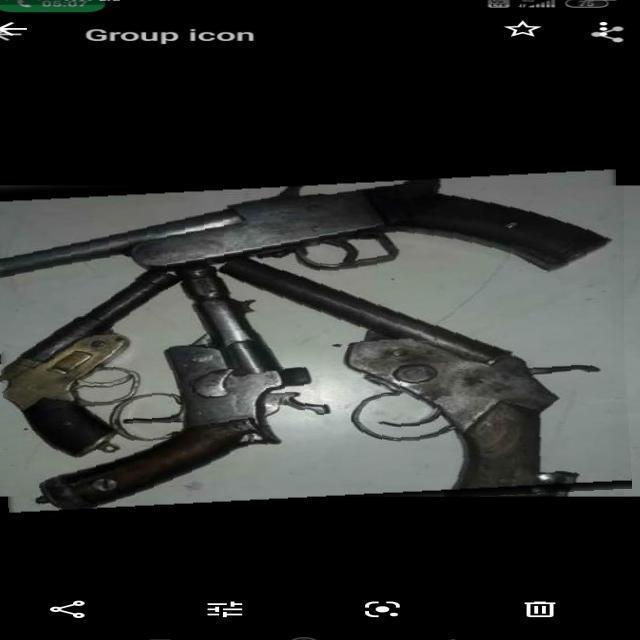rifle: (309, 268, 626, 498), (0, 178, 612, 278), (0, 346, 259, 509), (163, 249, 347, 474), (128, 188, 397, 269), (369, 181, 611, 271), (1, 267, 177, 379), (0, 208, 241, 277), (293, 231, 398, 270)
